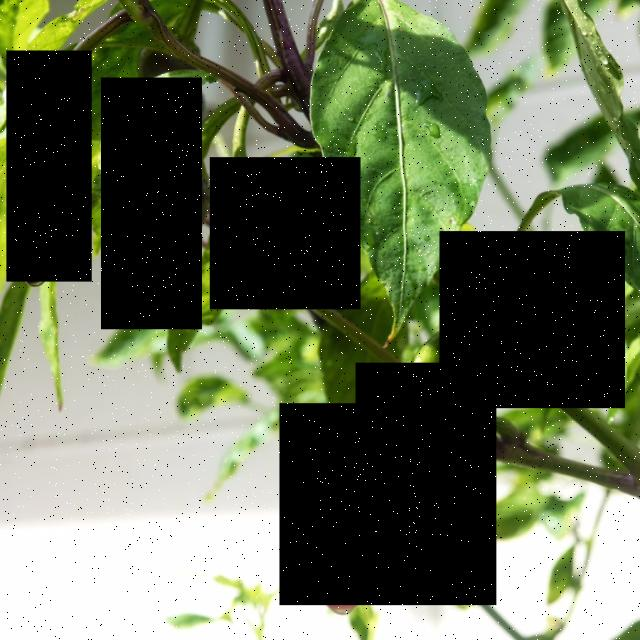Chili_Pepper: (280, 404, 497, 606), (440, 232, 626, 408), (101, 78, 202, 330), (210, 158, 360, 310), (356, 363, 468, 548), (7, 51, 92, 282)
